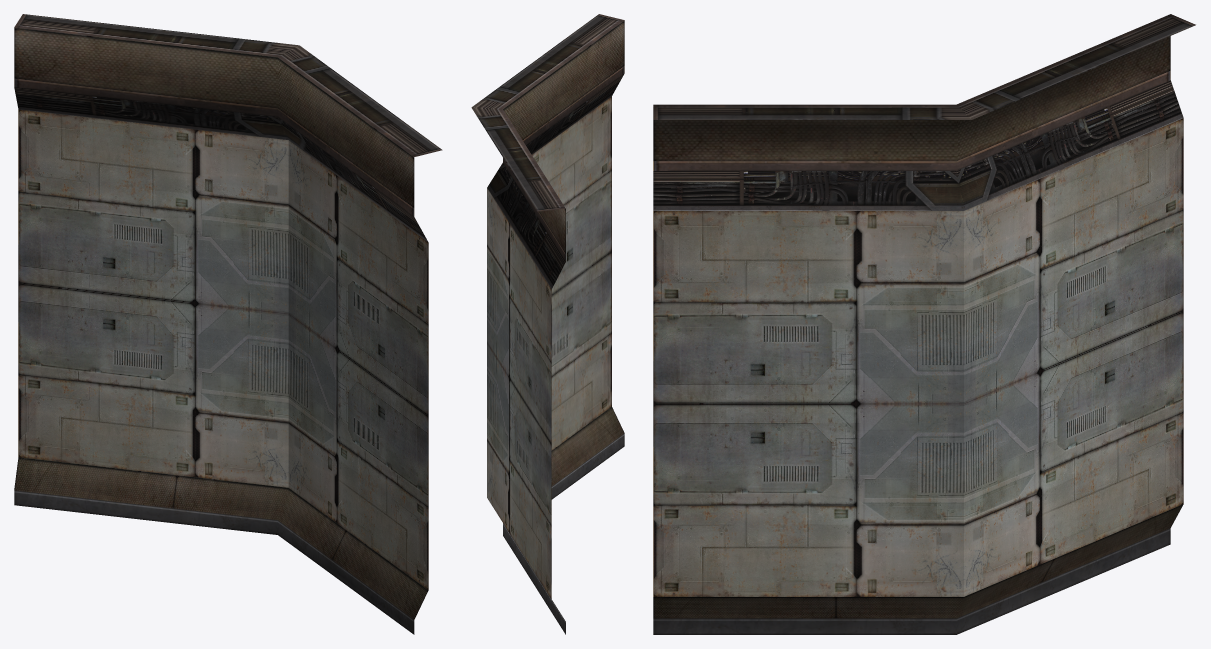
The model's file is Wall_Ware_new01.fbx.
3 views of the same model, side by side, from view 1: azimuth 30°, elevation 25°; view 2: azimuth 150°, elevation 25°; view 3: azimuth 270°, elevation 25° (orthographic). The views are drawn at different scales.
Parts seen in each view (by area): view 1: Wall_Ware_new01; view 2: Wall_Ware_new01; view 3: Wall_Ware_new01.
Part boxes in pixels (left/top/right/bottom): Wall_Ware_new01: left=14, top=14, right=442, bottom=634; Wall_Ware_new01: left=471, top=14, right=624, bottom=634; Wall_Ware_new01: left=653, top=14, right=1195, bottom=634.
Size of the model in its own units: 171 by 400 by 371.
Materials: 1 (1 with a texture image).
